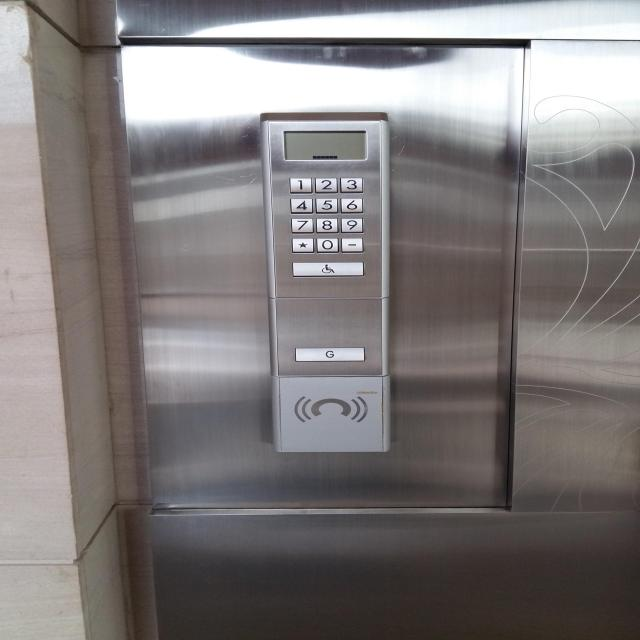-: (340, 236, 365, 254)
0: (315, 238, 339, 254)
1: (288, 177, 312, 194)
2: (313, 177, 339, 193)
3: (339, 177, 364, 194)
4: (289, 197, 314, 214)
5: (314, 198, 338, 215)
6: (339, 197, 363, 214)
7: (290, 217, 314, 234)
8: (314, 218, 339, 234)
9: (339, 217, 364, 233)
CH: (292, 262, 364, 277)
G: (294, 347, 364, 361)
led: (283, 131, 368, 160)
s: (291, 238, 315, 253)
